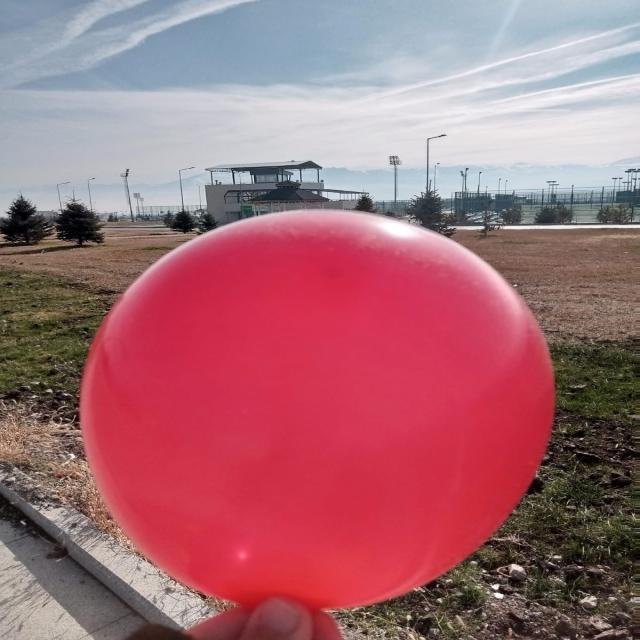balloon: (80, 210, 555, 609)
